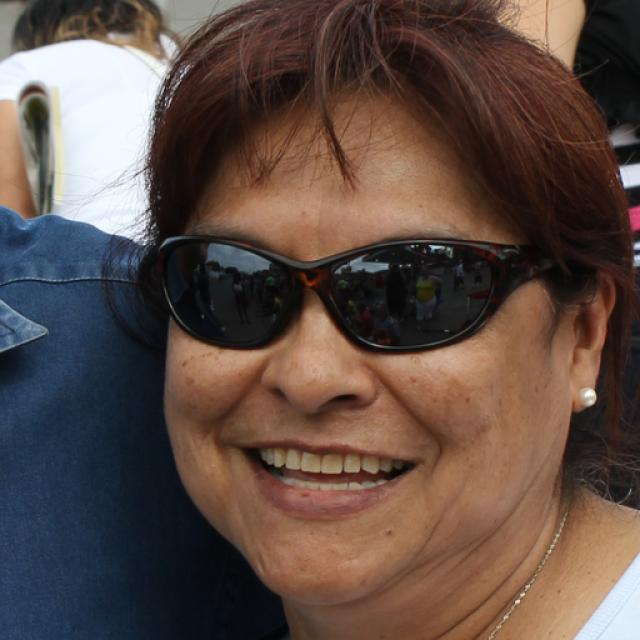Pigmentation: (429, 365, 497, 446), (178, 339, 236, 387)
